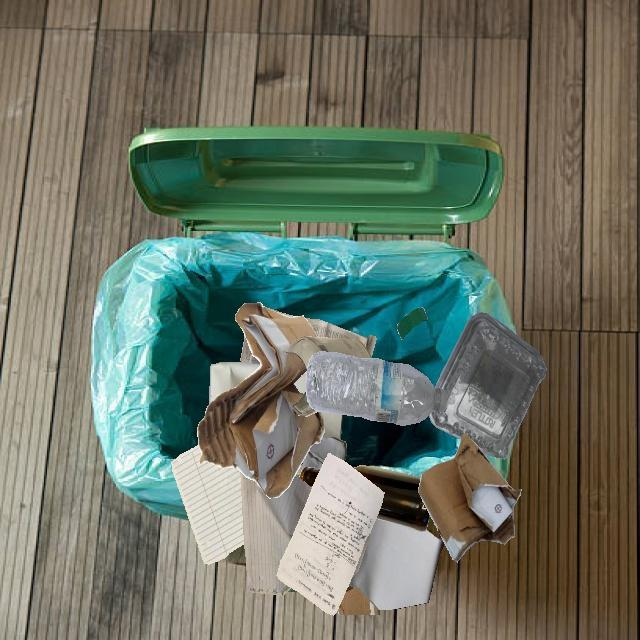cardboard: (197, 302, 325, 498), (418, 433, 521, 562), (337, 585, 380, 615)
glass: (353, 465, 430, 532), (286, 336, 372, 371), (287, 587, 297, 592)
paper: (277, 453, 384, 615), (241, 471, 312, 596), (349, 519, 444, 610), (172, 445, 244, 564), (257, 368, 324, 419), (315, 320, 376, 357), (209, 362, 257, 404), (251, 316, 297, 354), (297, 324, 315, 373)
plastic: (429, 312, 546, 459), (306, 351, 446, 426), (397, 307, 428, 339)
